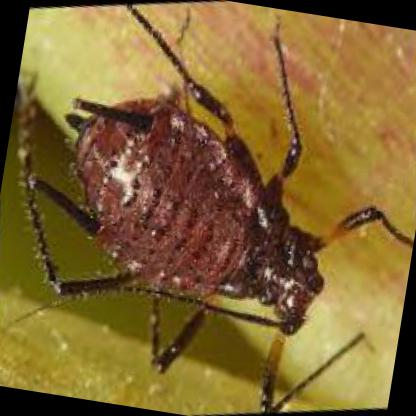uroleucon compositae: (28, 25, 380, 339)
